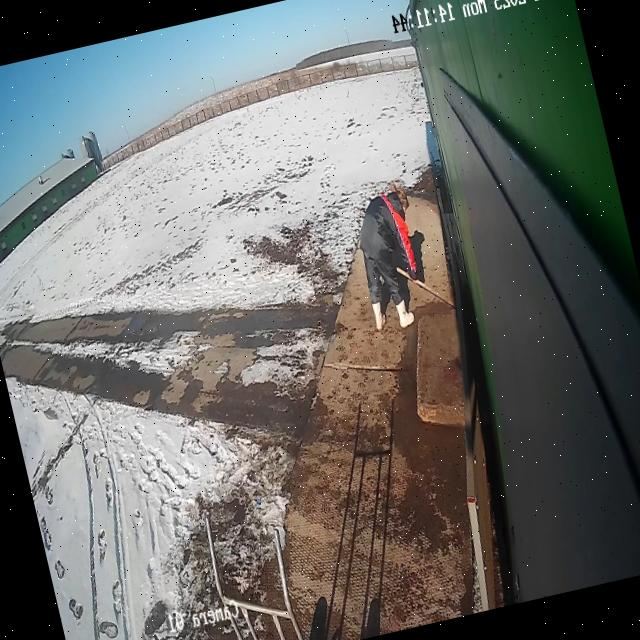Red uniform: (344, 180, 438, 337)
